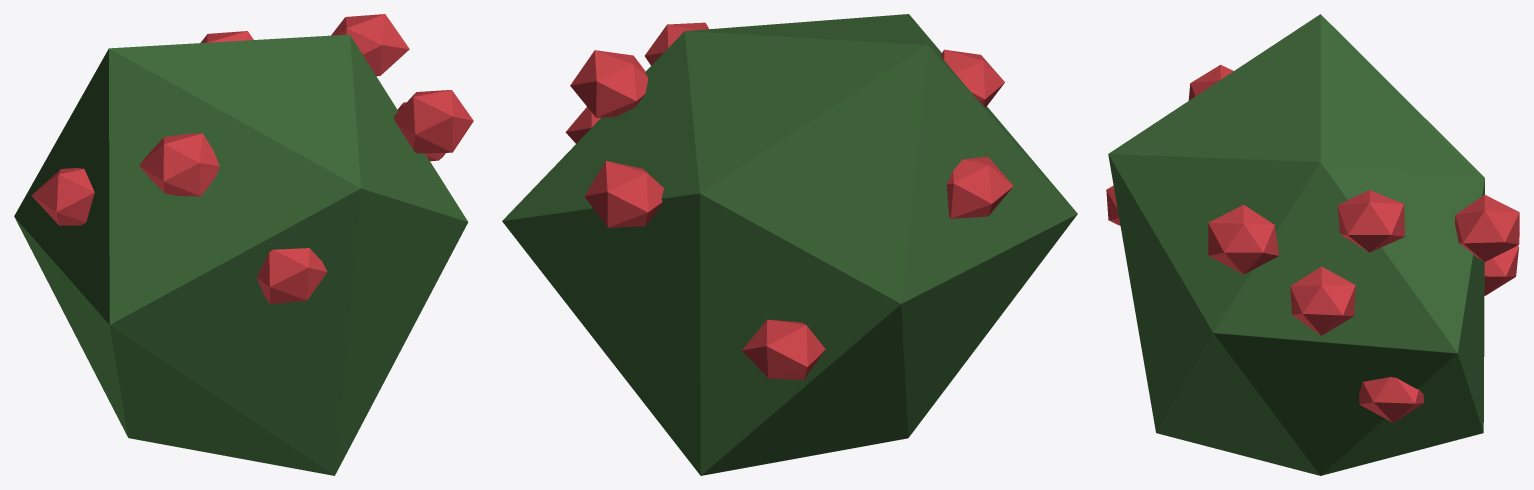
Rendered from nat-roseira.gltf.
3 views of the same model, side by side, from view 1: azimuth 30°, elevation 25°; view 2: azimuth 150°, elevation 25°; view 3: azimuth 270°, elevation 25° (orthographic). The views are drawn at different scales.
Visible parts, largest first — view 1: nat-roseira; view 2: nat-roseira; view 3: nat-roseira.
Boxes of the visible parts, x1,y1,x2,y2 form: nat-roseira: [14, 14, 473, 475]; nat-roseira: [502, 14, 1077, 475]; nat-roseira: [1106, 14, 1519, 475].
Bounding box in the file's own units: 0.6936 × 0.6212 × 0.6482.
